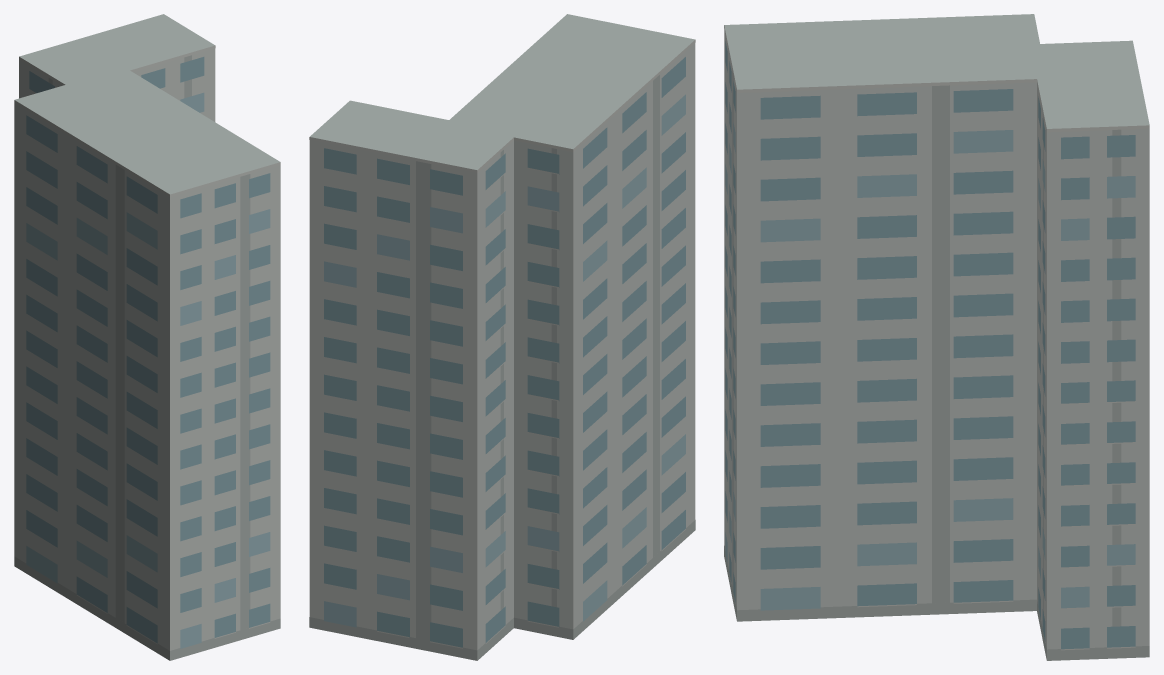
Rendered from residential-d5103c26-3c05-422b-a881-6d399aa3fbba.glb.
3 views of the same model, side by side, from view 1: azimuth 30°, elevation 25°; view 2: azimuth 150°, elevation 25°; view 3: azimuth 270°, elevation 25° (orthographic). The views are drawn at different scales.
Visible parts, largest first — view 1: residential-d5103c26-3c05-422b-a881-6d399aa3fbba.tmp; view 2: residential-d5103c26-3c05-422b-a881-6d399aa3fbba.tmp; view 3: residential-d5103c26-3c05-422b-a881-6d399aa3fbba.tmp.
Boxes of the visible parts, x1,y1,x2,y2 form: residential-d5103c26-3c05-422b-a881-6d399aa3fbba.tmp: [14, 14, 280, 660]; residential-d5103c26-3c05-422b-a881-6d399aa3fbba.tmp: [309, 14, 695, 660]; residential-d5103c26-3c05-422b-a881-6d399aa3fbba.tmp: [724, 14, 1149, 660].
Bounding box in the file's own units: 18.09 × 39 × 28.29.
